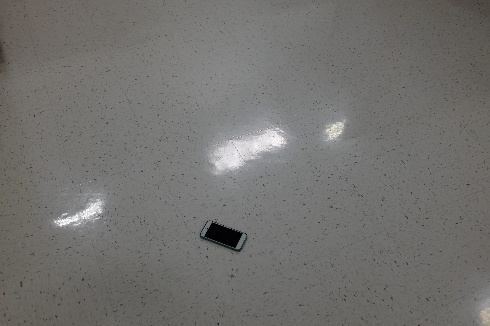phone: (199, 219, 248, 251)
